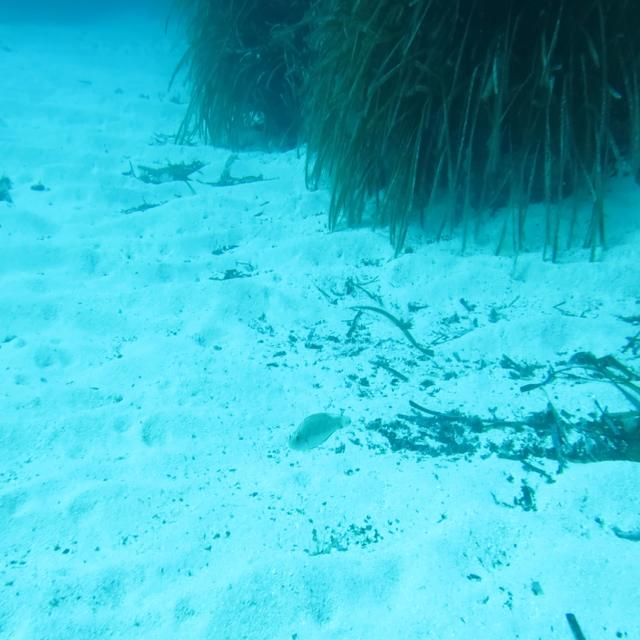BN: (284, 407, 356, 459)
vegetation: (286, 0, 639, 224), (170, 0, 300, 163), (404, 402, 640, 472)
